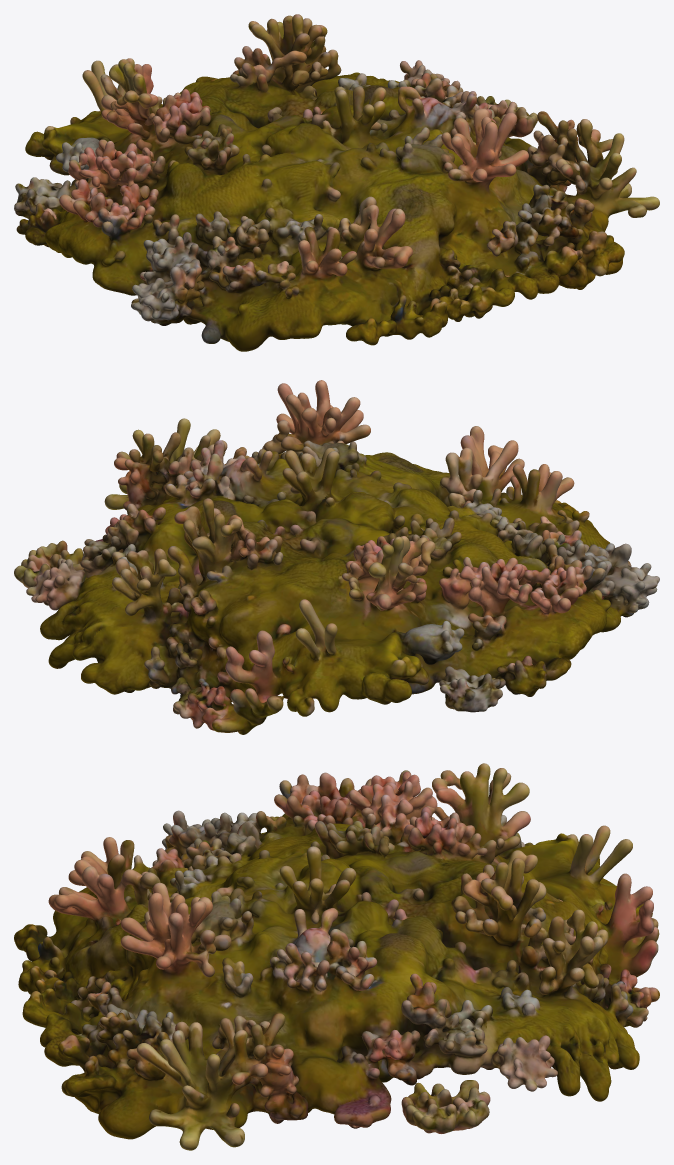
File: reefmass_d.glb
3 renders of one model, top to bottom at view 1: azimuth 30°, elevation 25°; view 2: azimuth 150°, elevation 25°; view 3: azimuth 270°, elevation 25°, orthographic. The views are drawn at different scales.
Visible parts, largest first — view 1: tripo_node_49963c1c-b5fb-4e26-ae1b-8669599cd1a2; view 2: tripo_node_49963c1c-b5fb-4e26-ae1b-8669599cd1a2; view 3: tripo_node_49963c1c-b5fb-4e26-ae1b-8669599cd1a2.
Part boxes in pixels (x1,y1,x2,y2): tripo_node_49963c1c-b5fb-4e26-ae1b-8669599cd1a2: (14,14,659,351); tripo_node_49963c1c-b5fb-4e26-ae1b-8669599cd1a2: (14,380,659,734); tripo_node_49963c1c-b5fb-4e26-ae1b-8669599cd1a2: (14,763,659,1150).
Bounding box in the file's own units: 1 × 0.3094 × 0.9216.
Materials: 1 (1 with a texture image).
